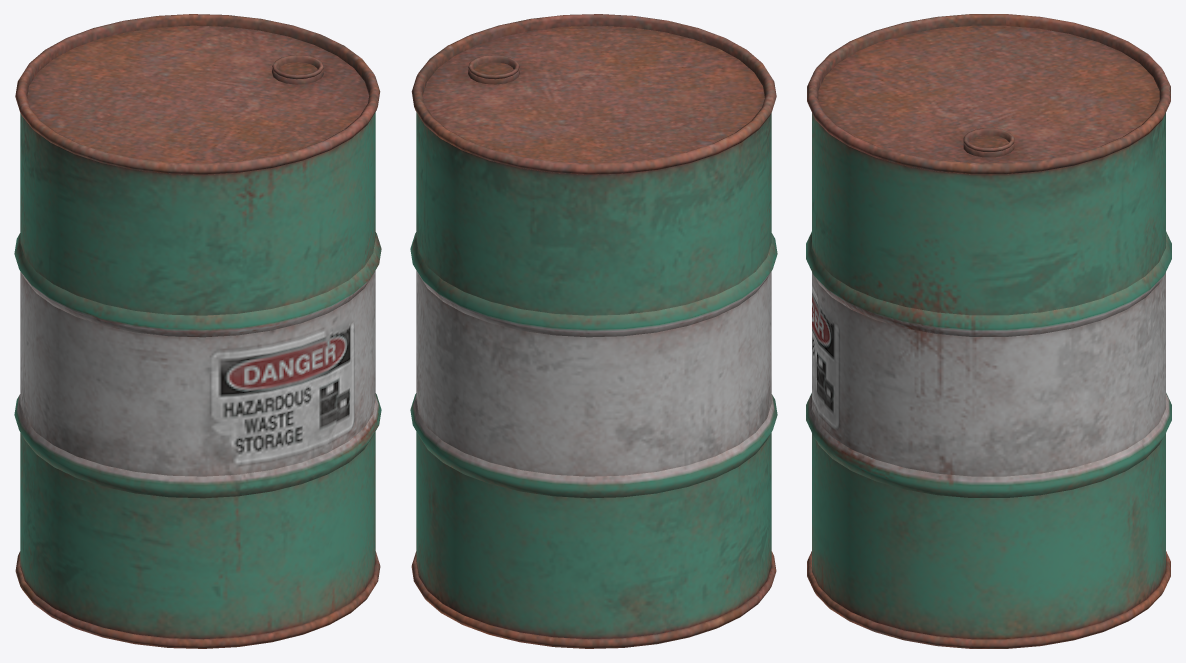
File: Barrel1.fbx
3 views of the same model, side by side, from view 1: azimuth 30°, elevation 25°; view 2: azimuth 150°, elevation 25°; view 3: azimuth 270°, elevation 25° (orthographic).
Visible parts, largest first — view 1: MetalBarrel_LOD00; view 2: MetalBarrel_LOD00; view 3: MetalBarrel_LOD00.
Part boxes in pixels (x1=…): MetalBarrel_LOD00: x1=14, y1=14, x2=381, y2=648; MetalBarrel_LOD00: x1=410, y1=14, x2=777, y2=648; MetalBarrel_LOD00: x1=806, y1=14, x2=1171, y2=648.
Size of the model in its own units: 206 by 301 by 206.
Materials: 1 (1 with a texture image).
